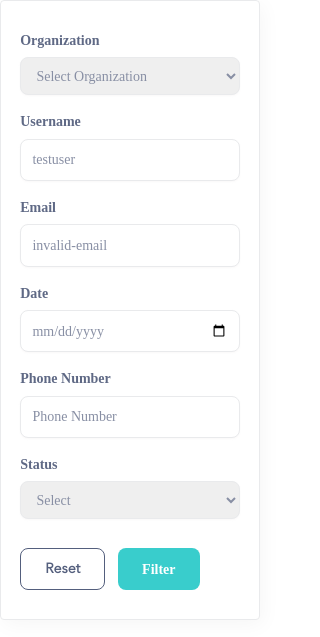
Scenario: FilterForm Component › Negative scenarios › should handle reset during form input
// Start typing
Type "john" into the field labelled "Username" at (130, 160), box [20,139,240,181]
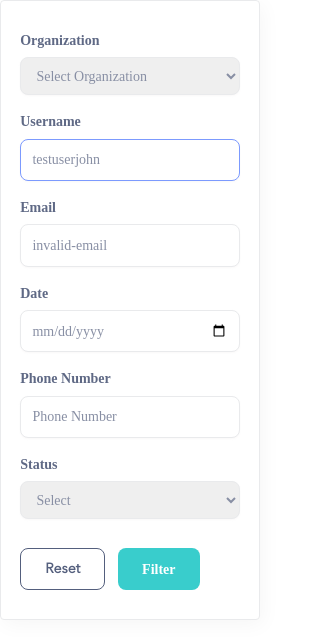
// Reset mid-input
Click the button "Reset" at (63, 569), box [20,548,105,590]
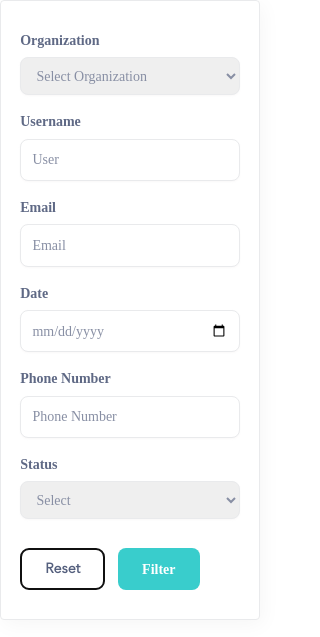
Now the field labelled "Username" is empty, box [20,139,240,181]
